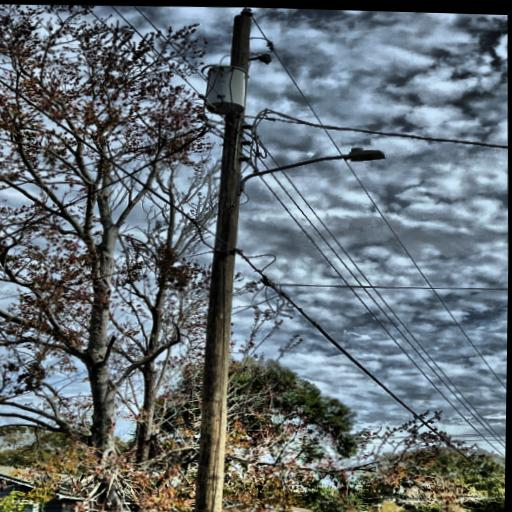insulator: (236, 7, 256, 18)
pole: (154, 5, 280, 512)
street light: (234, 141, 389, 201)
transformer: (202, 62, 250, 117)
